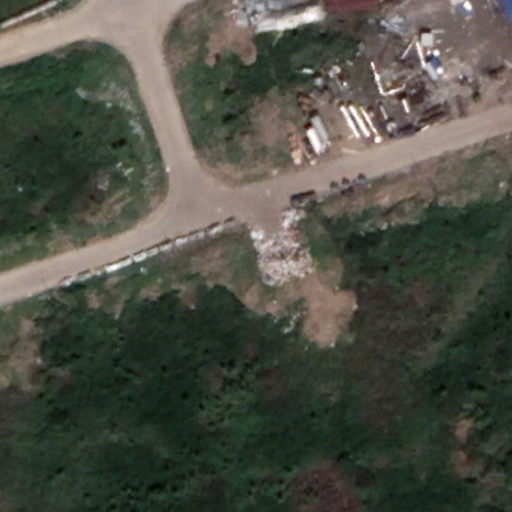msw: (254, 222, 316, 287)
